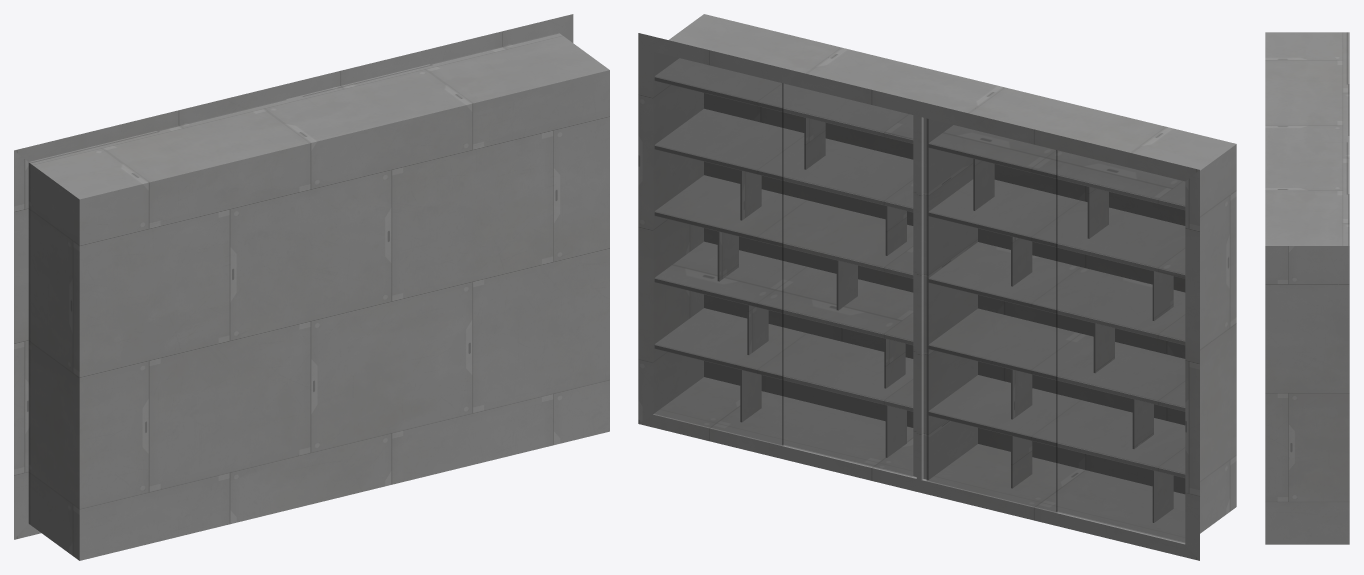
File: EC_WallShelf.FBX
The picture shows the model from 3 angles, left to right: view 1: azimuth 30°, elevation 25°; view 2: azimuth 150°, elevation 25°; view 3: azimuth 270°, elevation 25°; orthographic projection. The views are drawn at different scales.
Visible parts, largest first — view 1: EC_WallShelf; view 2: EC_WallShelf, EC_WallShelf_Glass; view 3: EC_WallShelf, EC_WallShelf_Glass.
Boxes of the visible parts, <box> form: EC_WallShelf: <box>14,14,609,560</box>; EC_WallShelf: <box>638,14,1236,560</box>; EC_WallShelf_Glass: <box>653,52,1184,542</box>; EC_WallShelf: <box>1265,32,1349,544</box>; EC_WallShelf_Glass: <box>1347,33,1348,245</box>.
Size of the model in its own units: 5284 by 3516 by 836.
